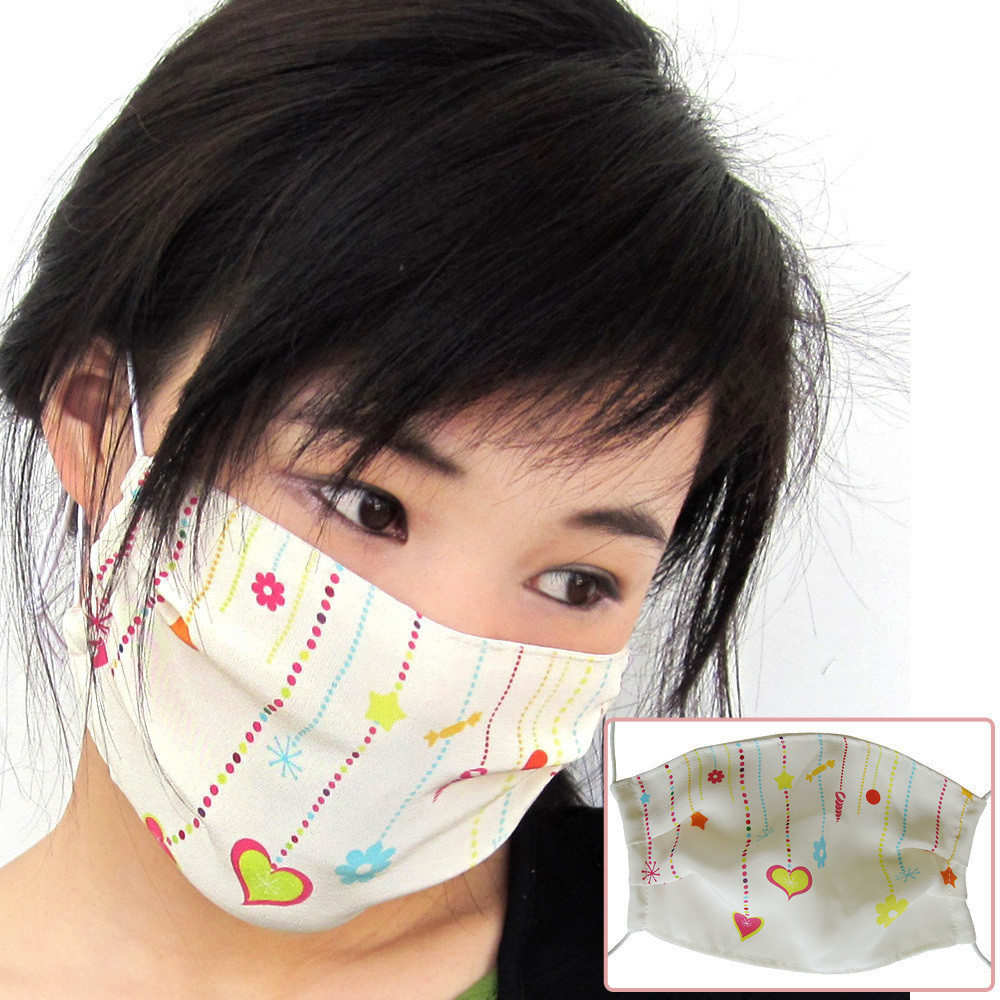face_mask: (155, 247, 656, 919)
